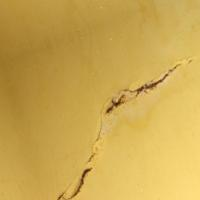crack: (49, 60, 195, 199)
